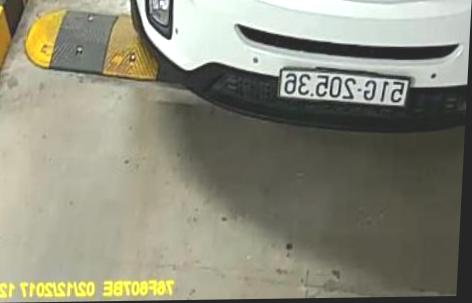License_Plate: (275, 66, 416, 105)
